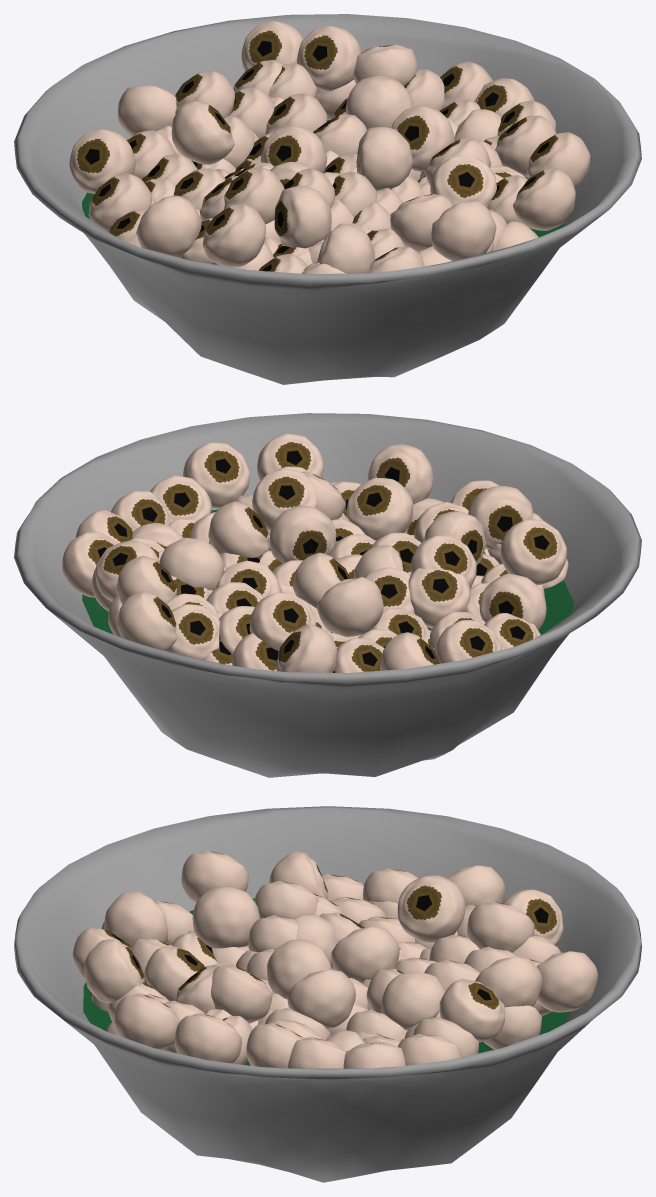
Rendered from EyeBowl.fbx.
3 renders of one model, top to bottom at view 1: azimuth 30°, elevation 25°; view 2: azimuth 150°, elevation 25°; view 3: azimuth 270°, elevation 25°, orthographic.
Visible parts, largest first — view 1: Bowl O Eyes; view 2: Bowl O Eyes; view 3: Bowl O Eyes.
Part boxes in pixels (left/top/right/bottom): Bowl O Eyes: left=14, top=14, right=641, bottom=384; Bowl O Eyes: left=14, top=413, right=641, bottom=777; Bowl O Eyes: left=14, top=806, right=641, bottom=1182.
Size of the model in its own units: 201 by 77.42 by 201.
